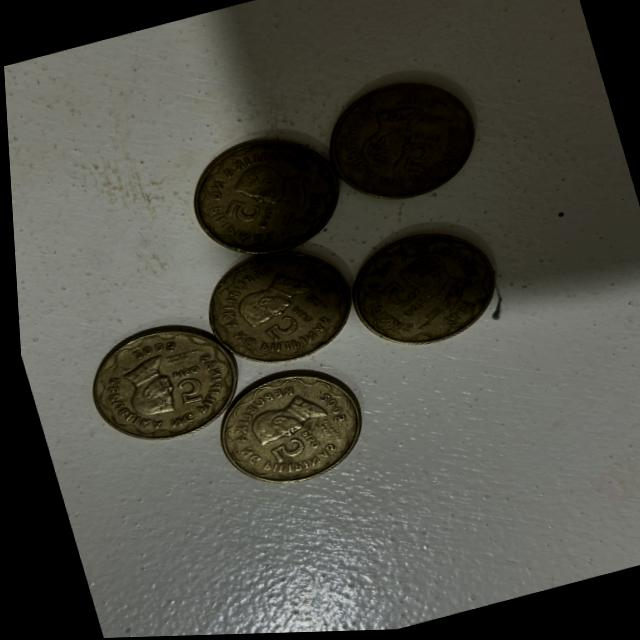5_Old_Front: (366, 269, 445, 331), (254, 425, 330, 475), (207, 191, 275, 244), (255, 293, 317, 350), (389, 128, 453, 180), (162, 361, 207, 405)
